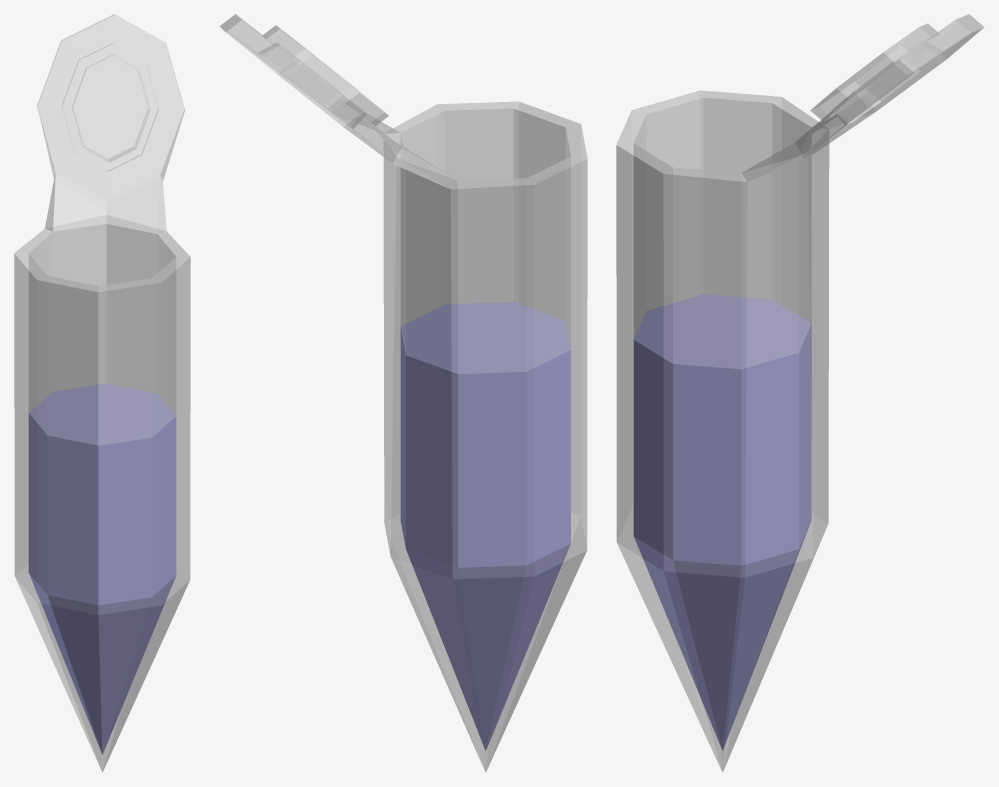
File: TuboDePCR.fbx
3 renders of one model, left to right at view 1: azimuth 30°, elevation 25°; view 2: azimuth 150°, elevation 25°; view 3: azimuth 270°, elevation 25°, orthographic. The views are drawn at different scales.
Parts seen in each view (by area): view 1: Circle; view 2: Circle; view 3: Circle.
Boxes of the visible parts, bbox=[...] form: Circle: bbox=[14, 14, 190, 772]; Circle: bbox=[220, 14, 587, 772]; Circle: bbox=[616, 14, 984, 772].
Bounding box in the file's own units: 36.6 × 107 × 43.8.
